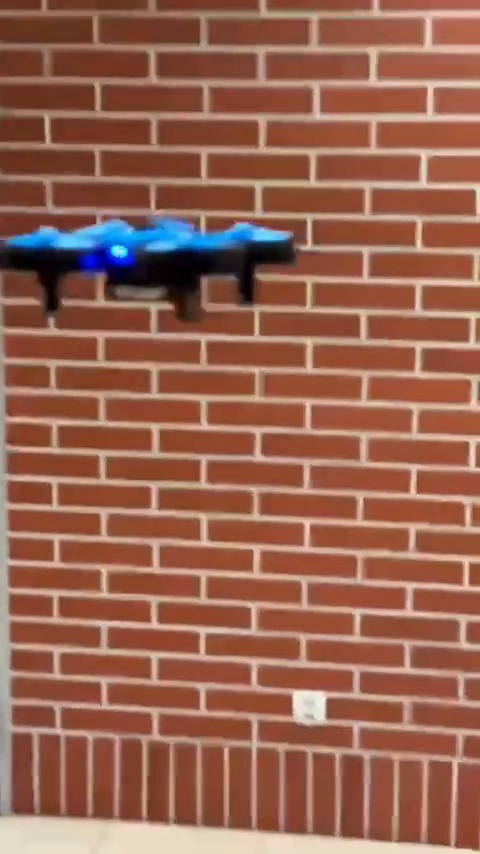drone: (0, 214, 295, 327)
